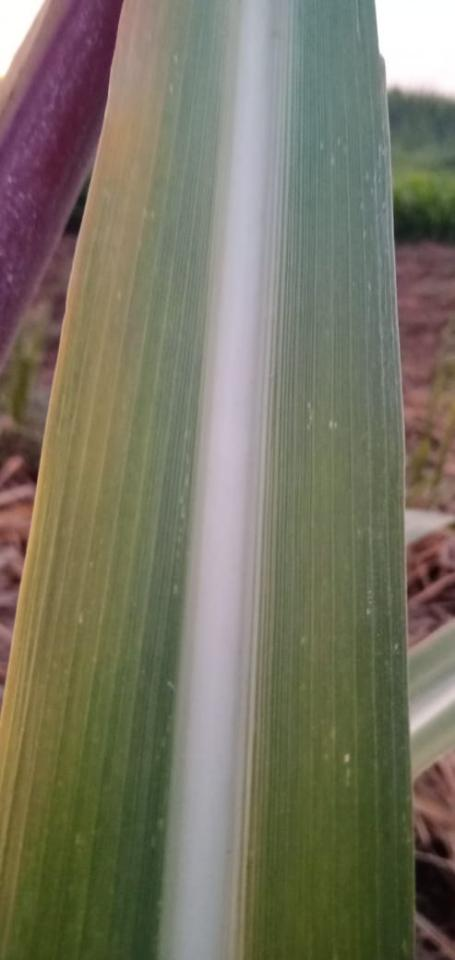Yellow: (0, 1, 186, 959), (241, 379, 365, 959)
